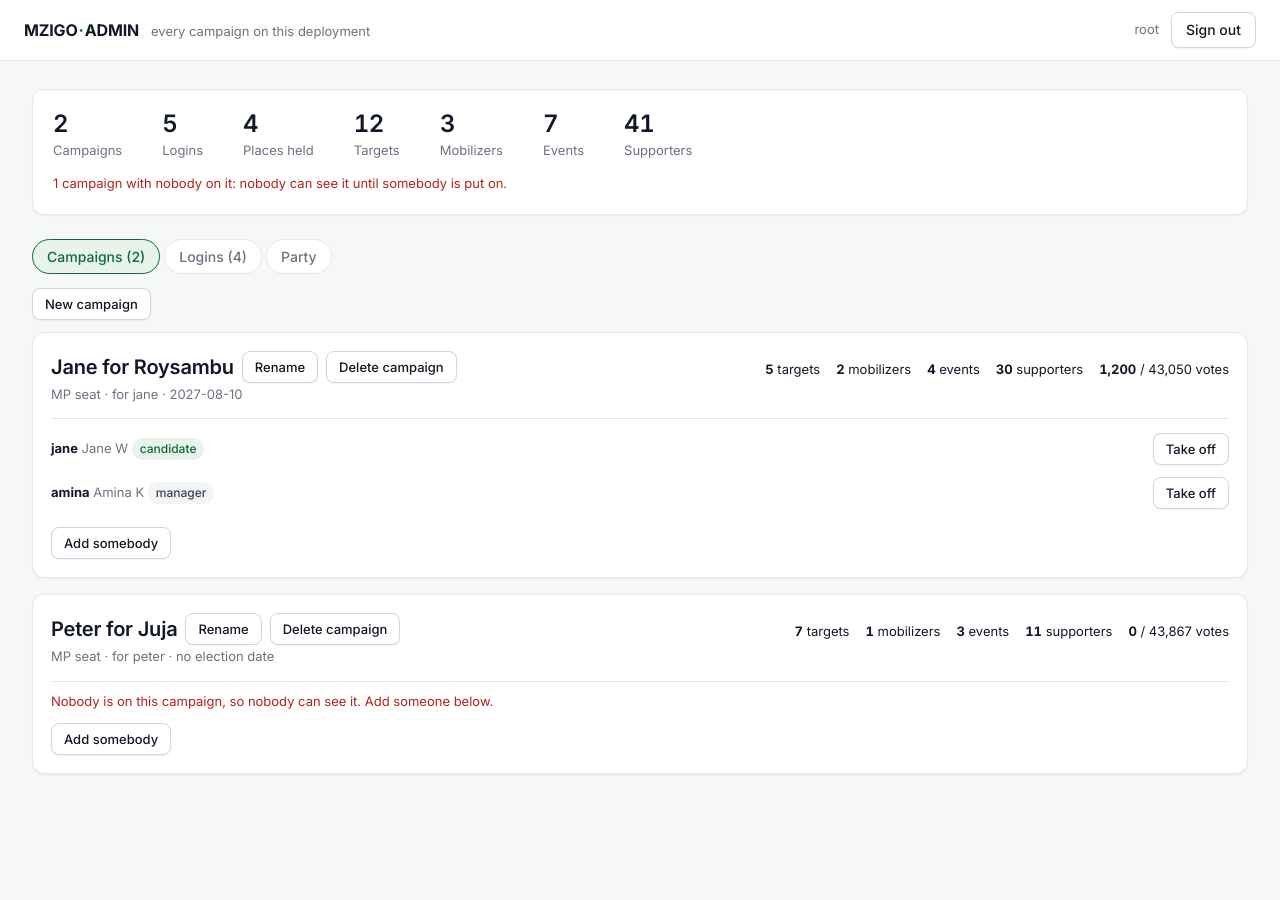
Scenario: party offices › grants Membership Officer to a staff login and shows the office
The width and height of the screenshot is (1280, 900).
Click the button "Logins (4)". click: (213,256)
box: x1=164 y1=239 x2=262 y2=274
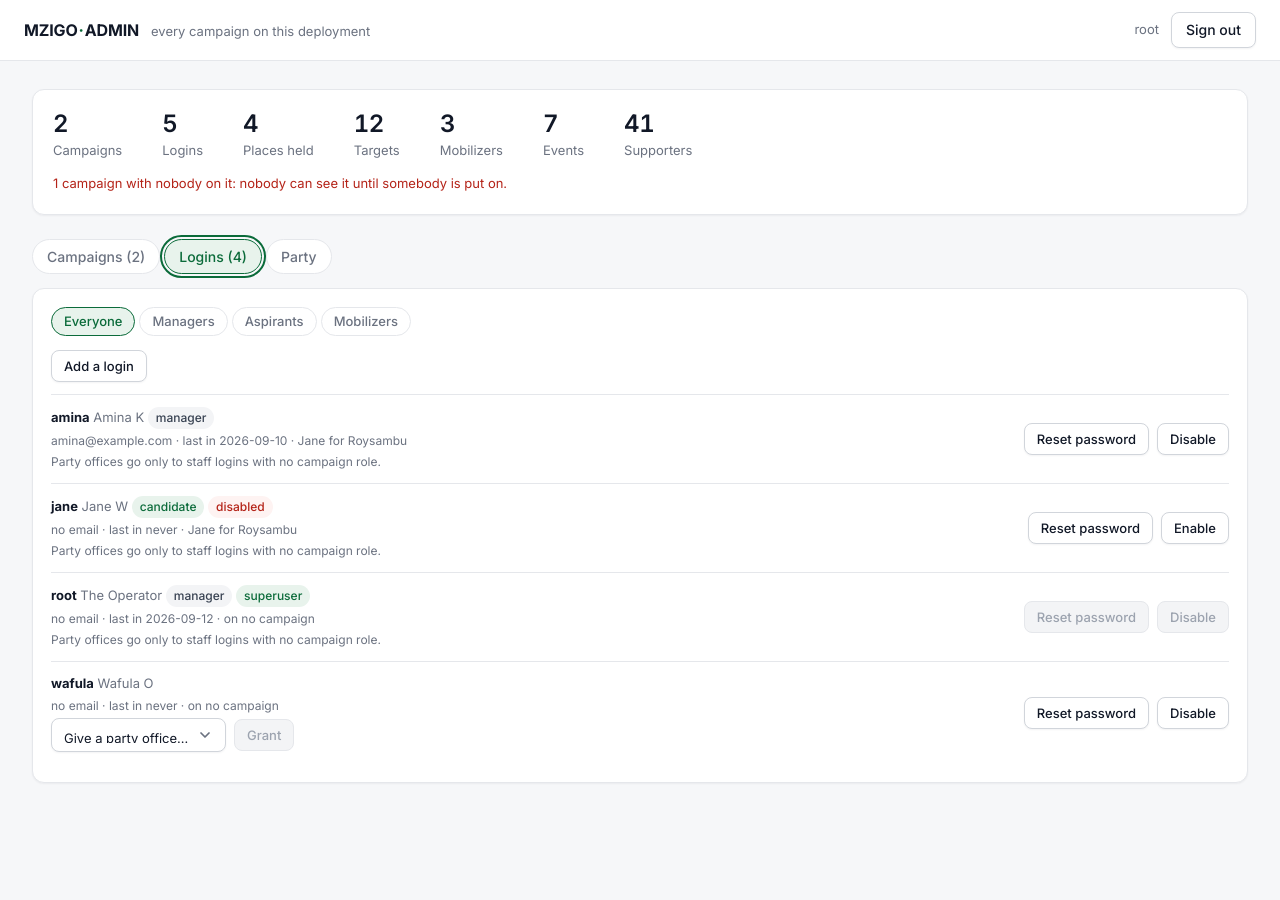
Select "Membership Officer" in the dropdown named "Party office for wafula". click: (138,735)
box: x1=51 y1=718 x2=226 y2=752
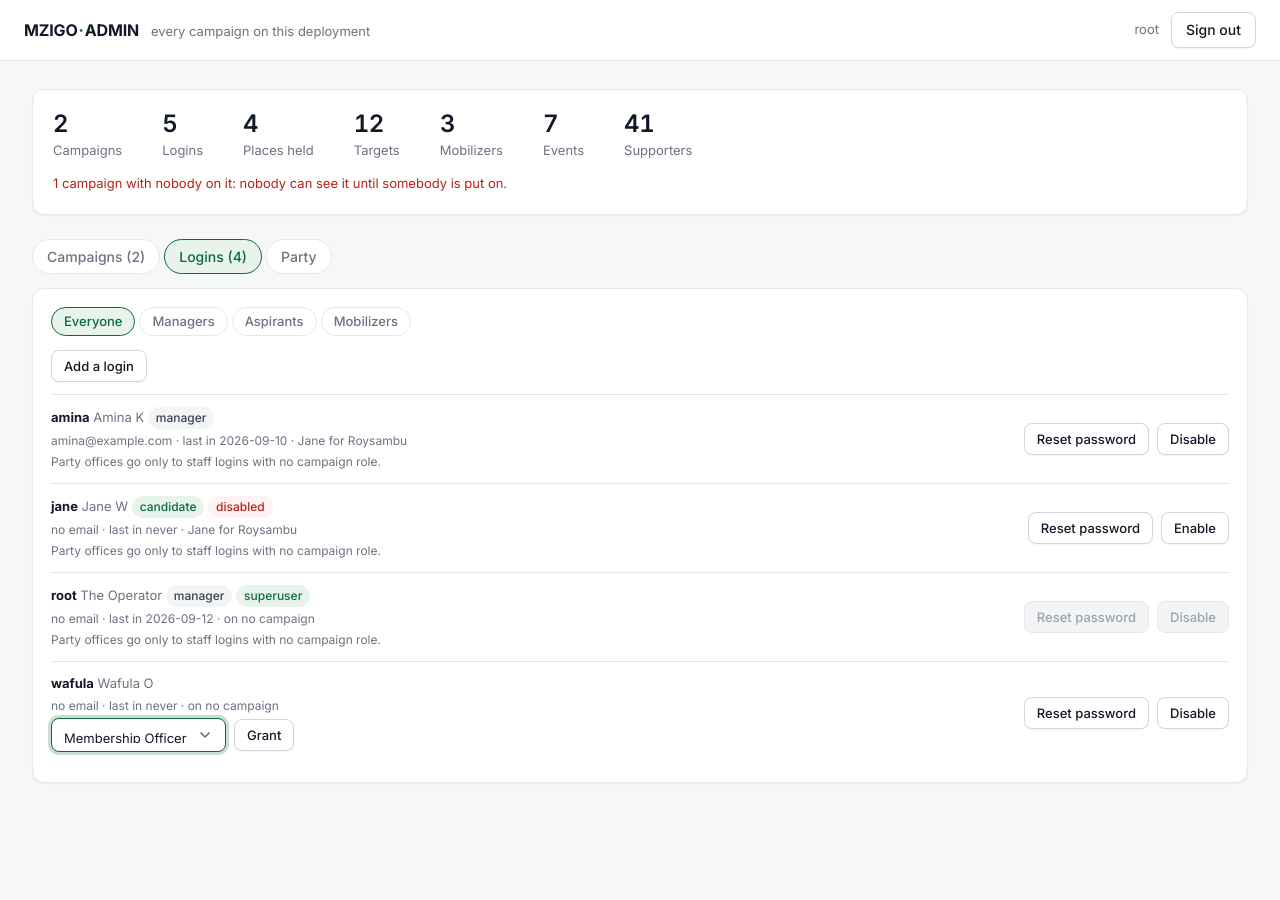
Click the button "Grant". click: (264,735)
box: x1=234 y1=719 x2=294 y2=751
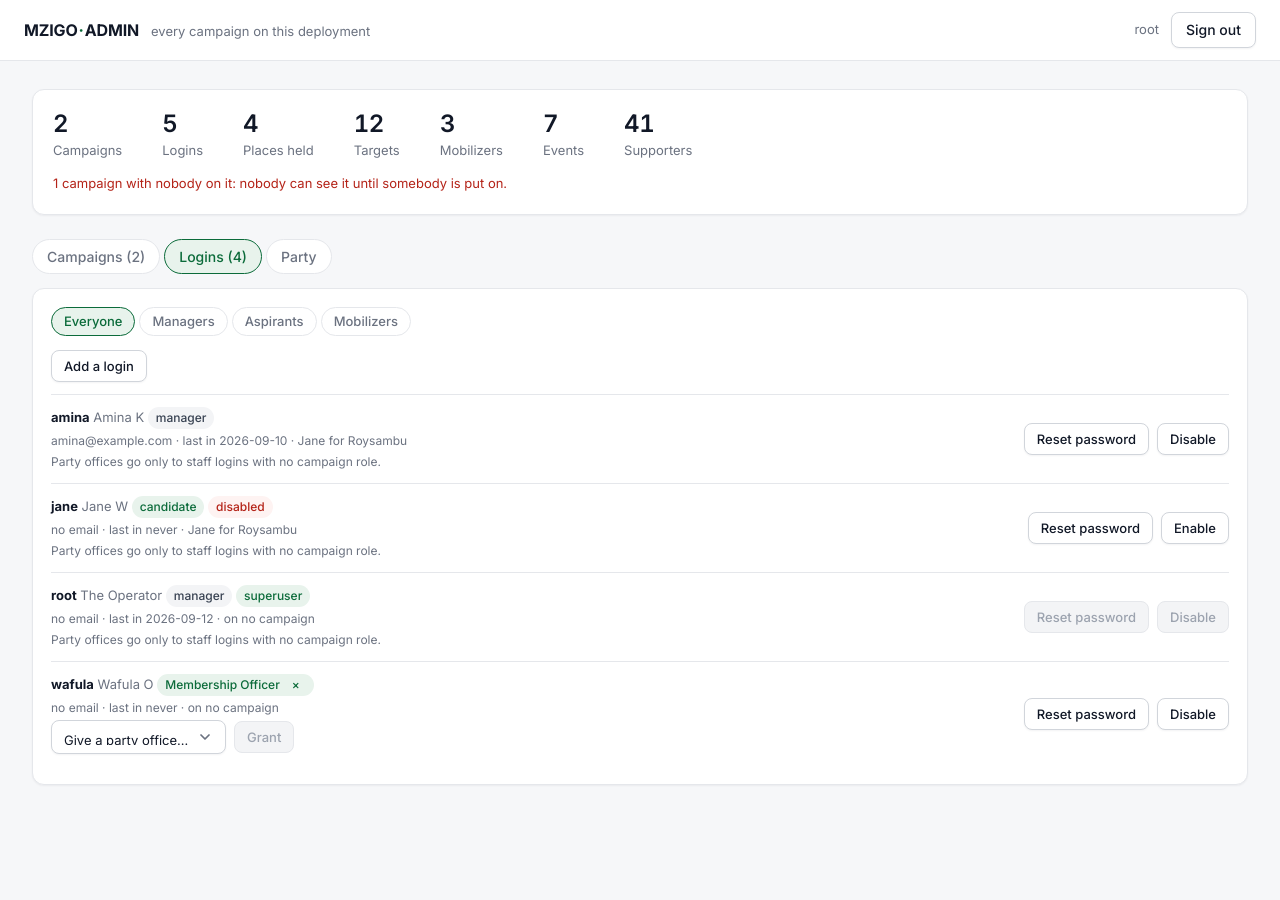
Now the button named "Revoke Membership Officer" is shown, box x1=286 y1=676 x2=306 y2=694
